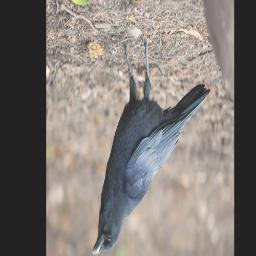Crow: (90, 31, 210, 256)
